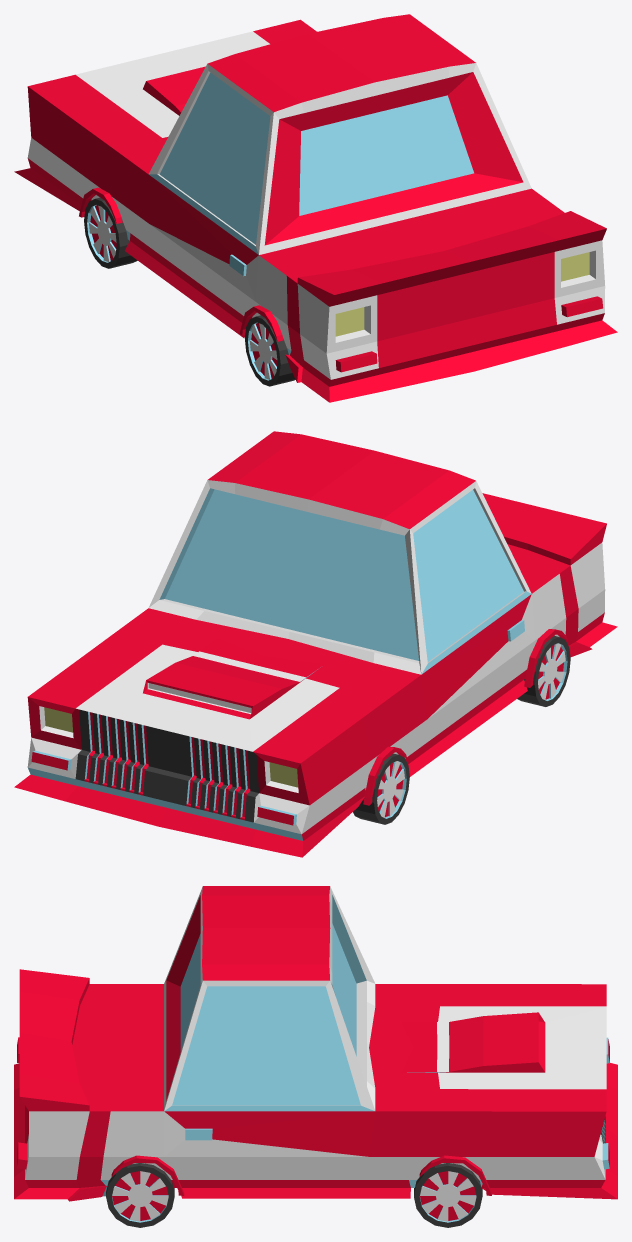
Rendered from car_red.fbx.
3 renders of one model, top to bottom at view 1: azimuth 30°, elevation 25°; view 2: azimuth 150°, elevation 25°; view 3: azimuth 270°, elevation 25°, orthographic. The views are drawn at different scales.
Visible parts, largest first — view 1: car; view 2: car; view 3: car.
Boxes of the visible parts, bbox=[...] form: car: bbox=[14, 14, 617, 402]; car: bbox=[14, 431, 617, 857]; car: bbox=[14, 886, 617, 1227].
Bounding box in the file's own units: 143 × 112 × 264.
